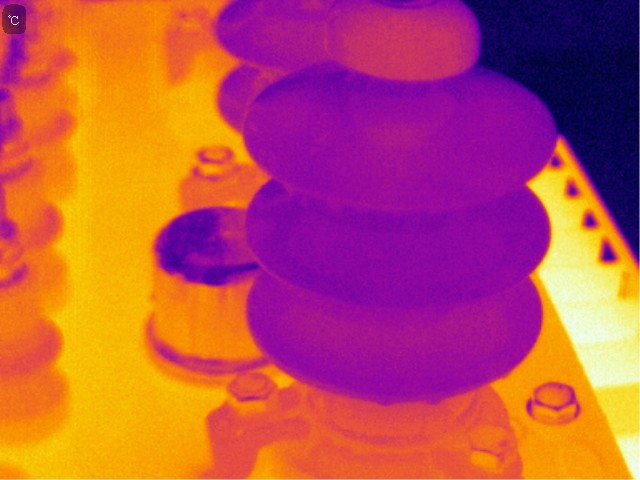Oil: (326, 1, 480, 80), (252, 100, 325, 153), (357, 116, 439, 158), (277, 175, 304, 197), (373, 391, 398, 409), (423, 390, 444, 406)
